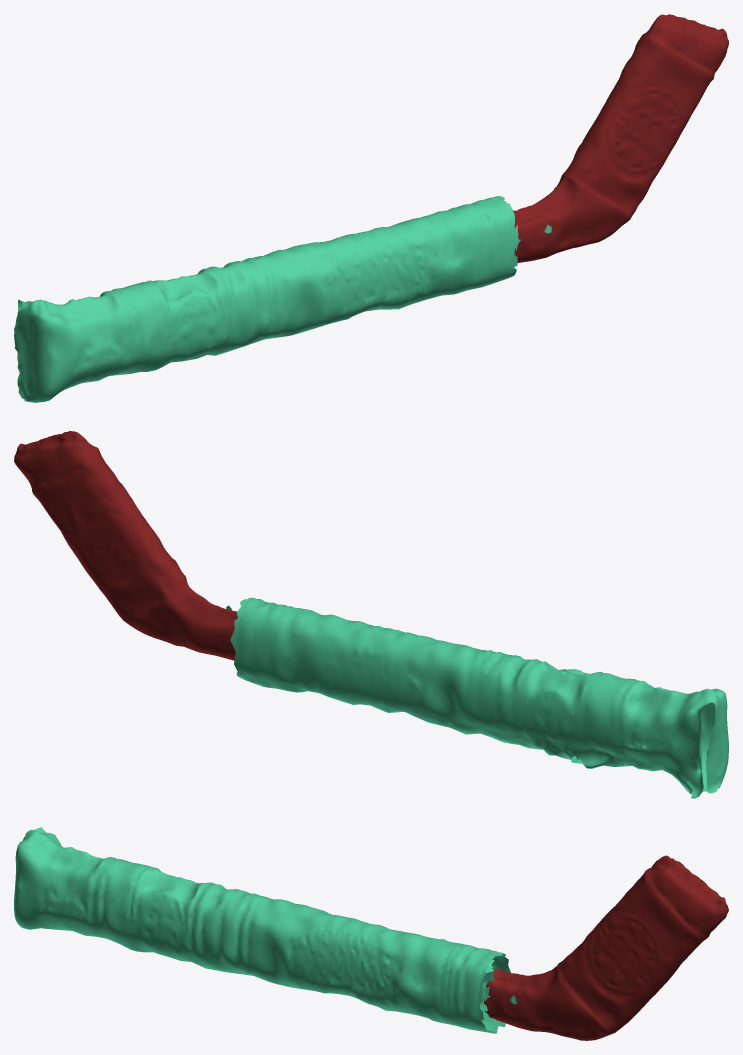
File: object_deformed_7.obj
3 renders of one model, top to bottom at view 1: azimuth 30°, elevation 25°; view 2: azimuth 150°, elevation 25°; view 3: azimuth 330°, elevation 25°, orthographic. The views are drawn at different scales.
Bounding box in the file's own units: 0.6063 × 0.1787 × 0.0577.
